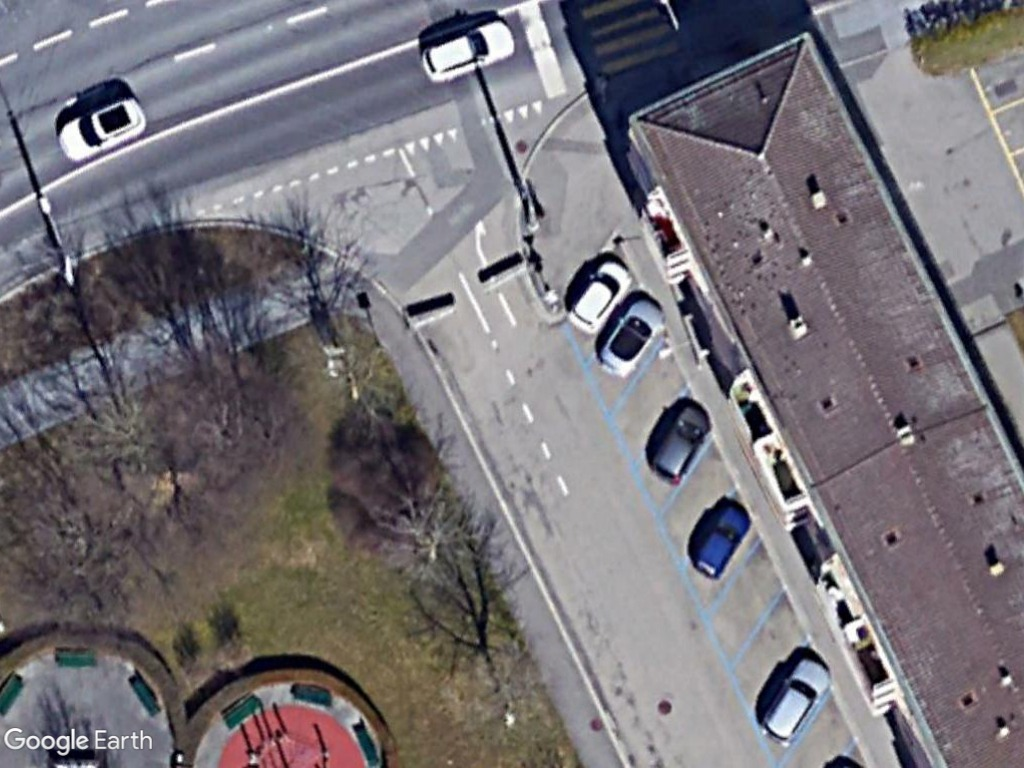car: (55, 95, 146, 167), (759, 656, 829, 749), (417, 17, 514, 84), (596, 297, 665, 382), (565, 253, 634, 335), (646, 400, 710, 485), (690, 502, 752, 580)
